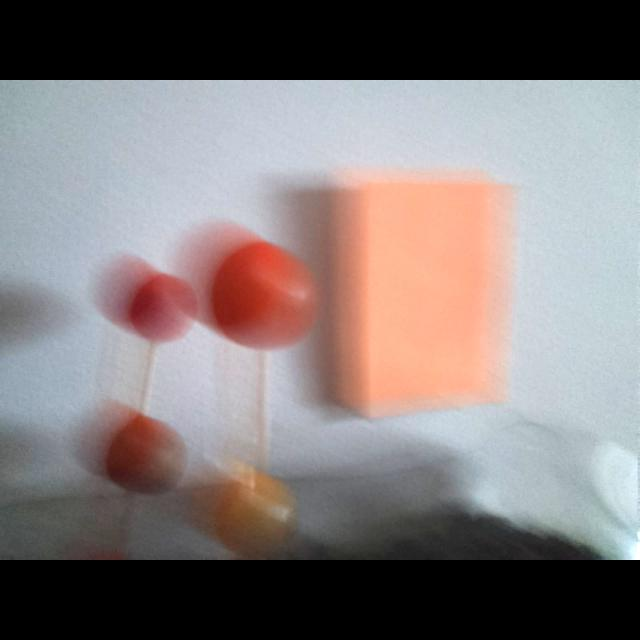card: (332, 175, 512, 417)
fruit_maturation: (209, 469, 296, 560)
fully_grown: (209, 232, 316, 348), (105, 393, 185, 493), (124, 270, 196, 344)
